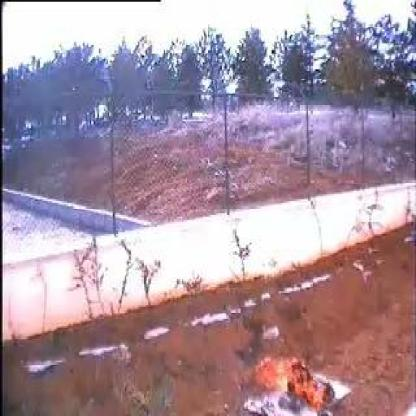foggia-v2-map80-epoch100 - v1 4323: (262, 358, 333, 405)
